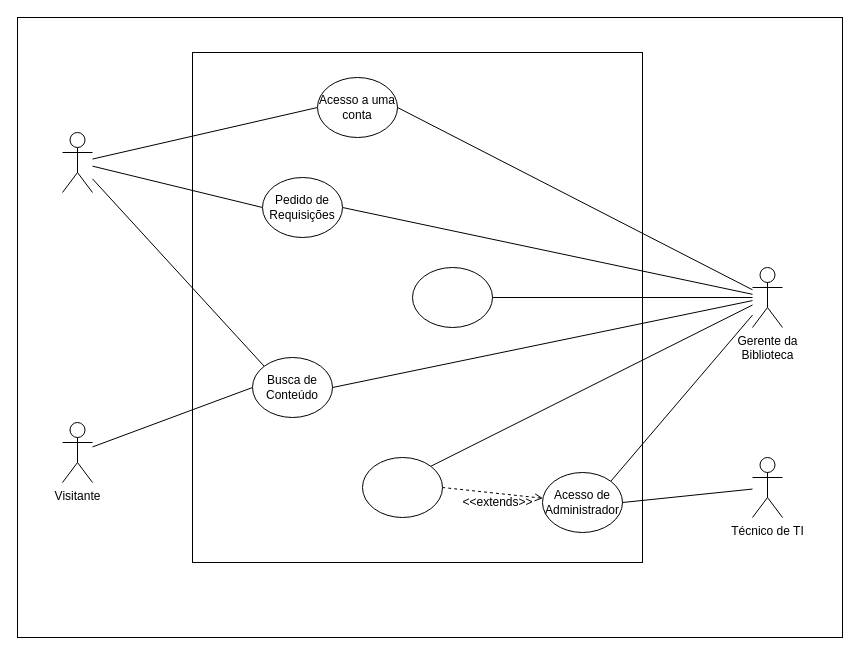
The diagram is 860 pixels wide and 655 high, and some of its shapes have lost their labels. Each missing label, with the centre of its shape:
"Gerenciar Requisições" belongs at point 452,297.
"Gerenciar Usuários" belongs at point 402,487.
"Requerente" belongs at point 77,162.
